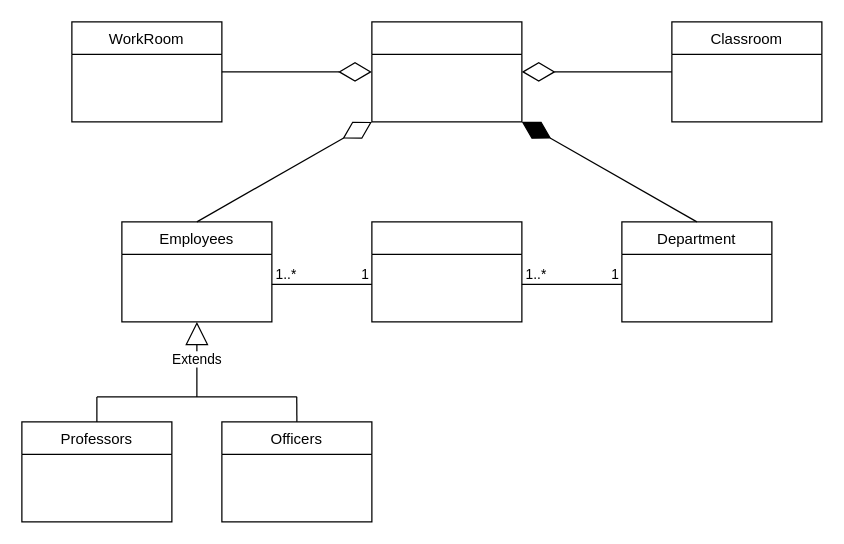
Image size: 844x544. Some labels were removed from this diagram. Each missing label, with the box of its shape:
Office: (371, 221, 522, 322)
University: (371, 21, 522, 122)
